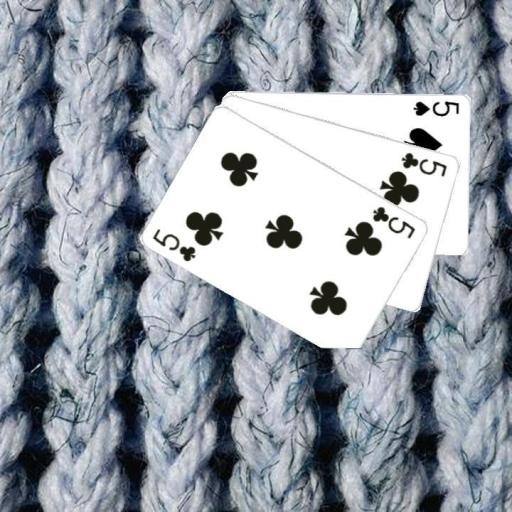5C: (150, 226, 198, 263), (370, 203, 417, 240), (399, 149, 449, 178)
5S: (411, 98, 462, 118)
